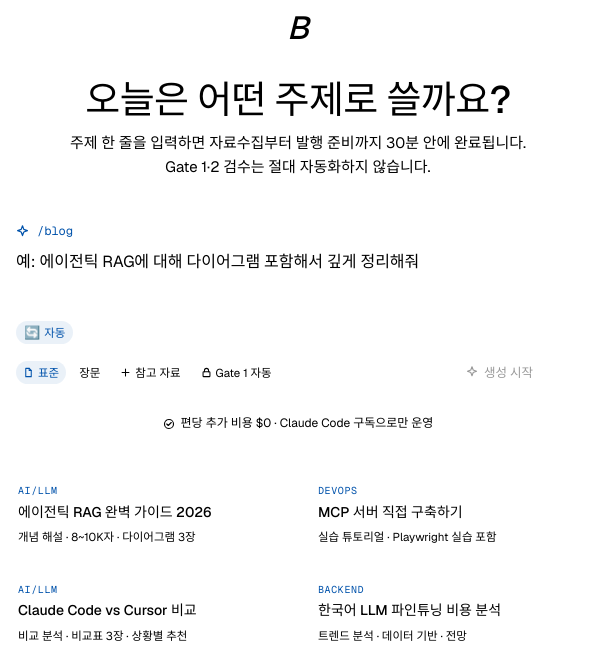
Test case: Launcher › submit button is enabled when input has text
Step 1. Type "테스트 주제" into the text box with placeholder "예: 에이전틱 RAG에 대해 다이어그램 포함해서 깊게 정리해줘" → (298, 277), box [16,246,580,308]
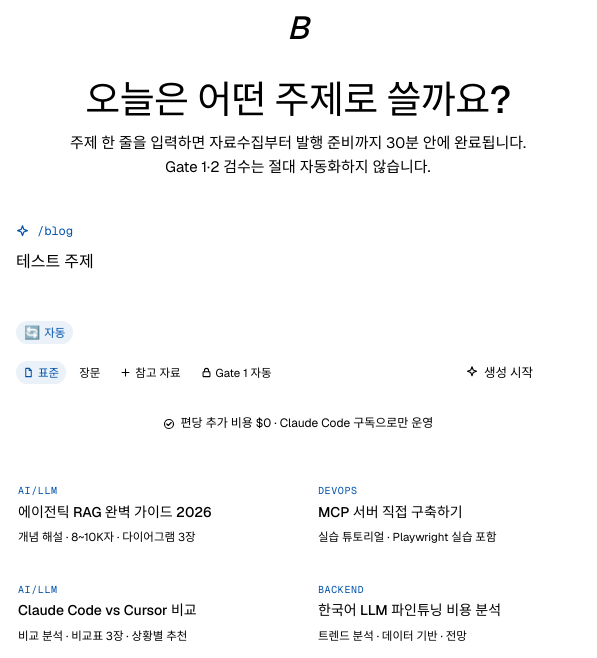
Expected: the button "생성 시작 ⌘ ↵" is enabled, [454,358,580,386]
